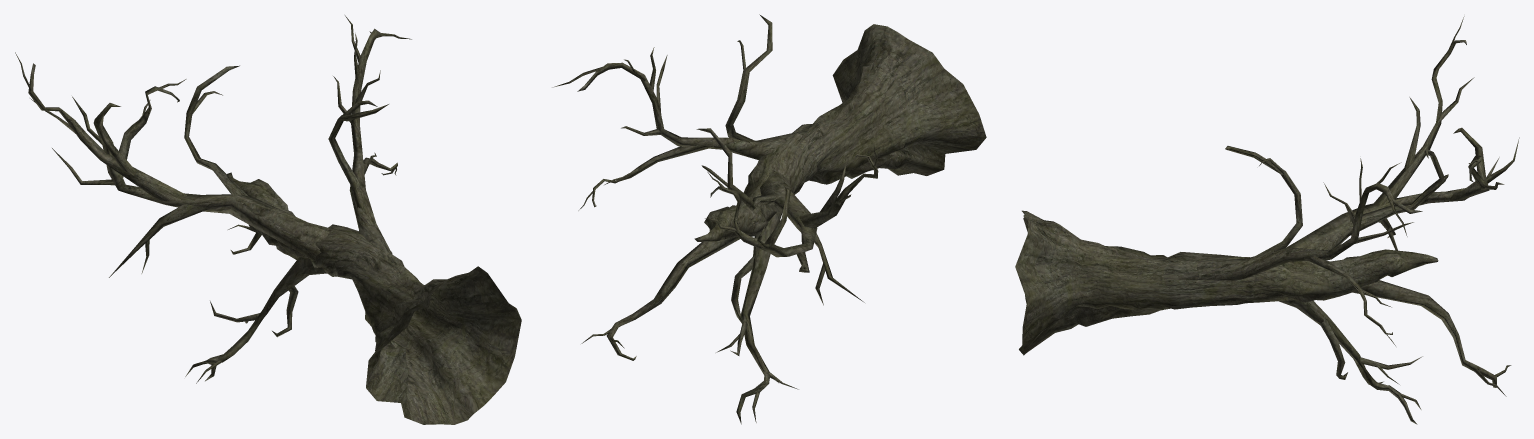
File: TI_Old_Tree_03.fbx
3 views of the same model, side by side, from view 1: azimuth 30°, elevation 25°; view 2: azimuth 150°, elevation 25°; view 3: azimuth 270°, elevation 25° (orthographic). The views are drawn at different scales.
Parts seen in each view (by area): view 1: TI_Old_Tree_03; view 2: TI_Old_Tree_03; view 3: TI_Old_Tree_03.
Boxes of the visible parts, x1,y1,x2,y2 form: TI_Old_Tree_03: (15, 15, 521, 424); TI_Old_Tree_03: (552, 14, 986, 424); TI_Old_Tree_03: (1015, 16, 1519, 424).
Bounding box in the file's own units: 8.93 × 8.17 × 11.17.
